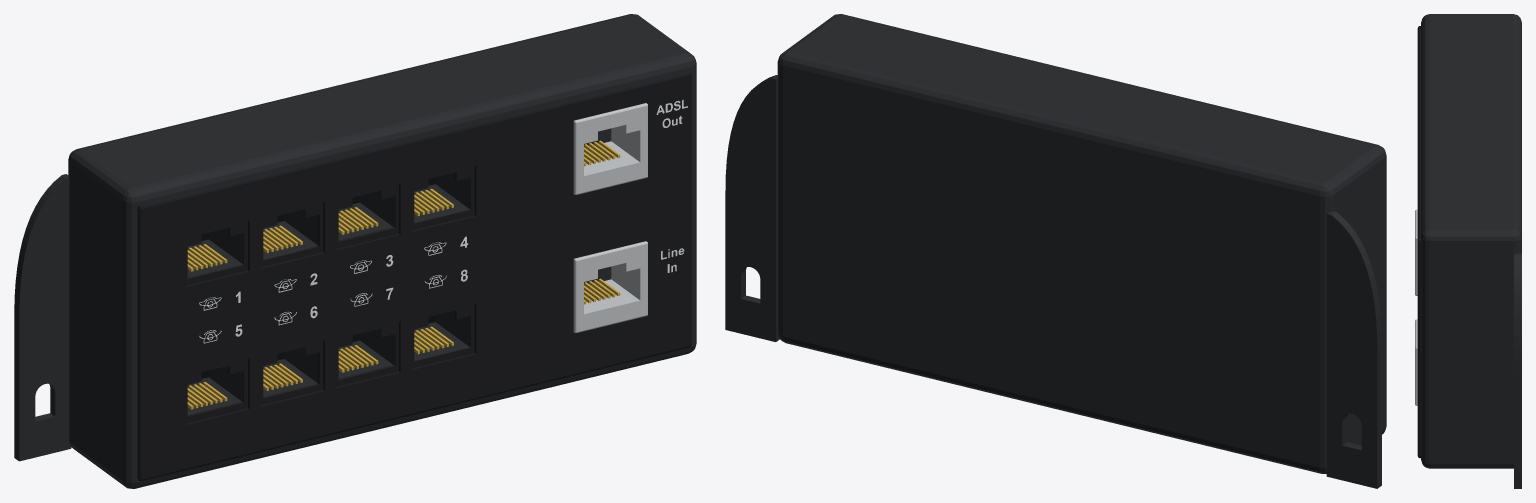
File: multiplexor.glb
3 views of the same model, side by side, from view 1: azimuth 30°, elevation 25°; view 2: azimuth 150°, elevation 25°; view 3: azimuth 270°, elevation 25° (orthographic). The views are drawn at different scales.
Visible parts, largest first — view 1: mux_panell, mux_carcassa, mux_metall, mux_contacte, mux_serigrafia; view 2: mux_carcassa; view 3: mux_carcassa, mux_panell, mux_metall.
Part boxes in pixels (bbox=[...]): mux_panell: bbox=[137, 71, 691, 481]; mux_carcassa: bbox=[14, 14, 696, 488]; mux_metall: bbox=[573, 103, 647, 332]; mux_contacte: bbox=[187, 140, 620, 409]; mux_serigrafia: bbox=[199, 99, 687, 343]; mux_carcassa: bbox=[725, 14, 1386, 488]; mux_carcassa: bbox=[1421, 14, 1521, 488]; mux_panell: bbox=[1417, 26, 1420, 458]; mux_metall: bbox=[1415, 209, 1417, 405].
Bounding box in the file's own units: 0.142 × 0.0605 × 0.0246.
6 materials, 1 textured.
